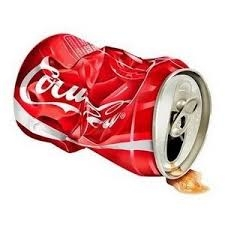metal: (6, 28, 217, 196)
